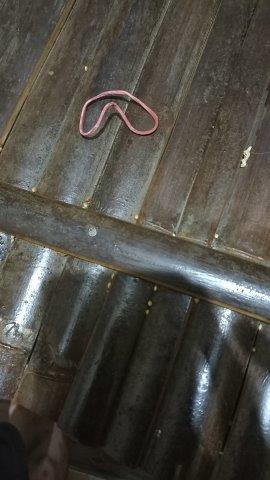karet: (78, 90, 159, 136)
